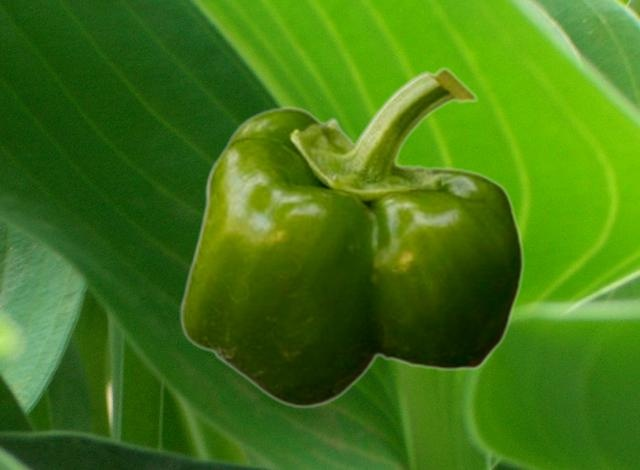bell_pepper: (179, 67, 523, 408)
